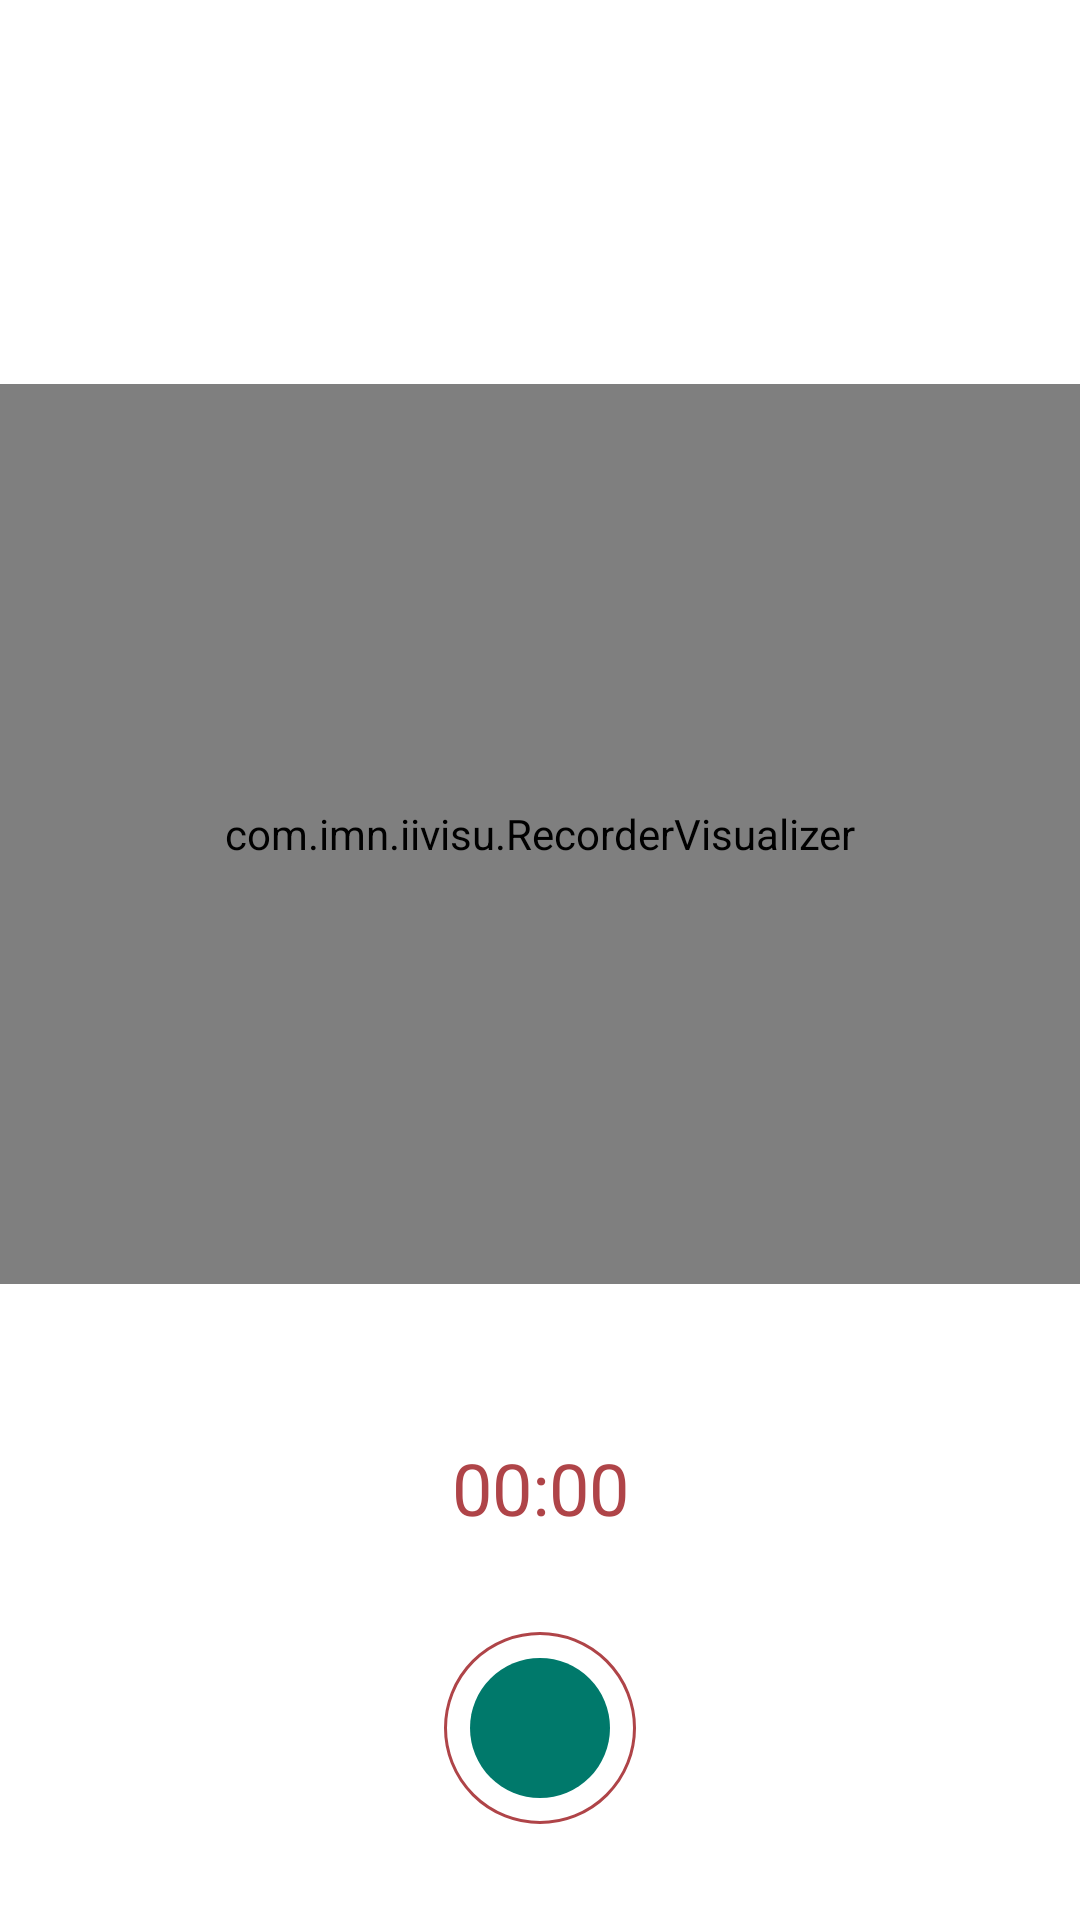

Screen size 1080×1920. Icon name, then its box in pixels as (x1, y1, x2, y2):
record: (444, 1632, 636, 1824)
